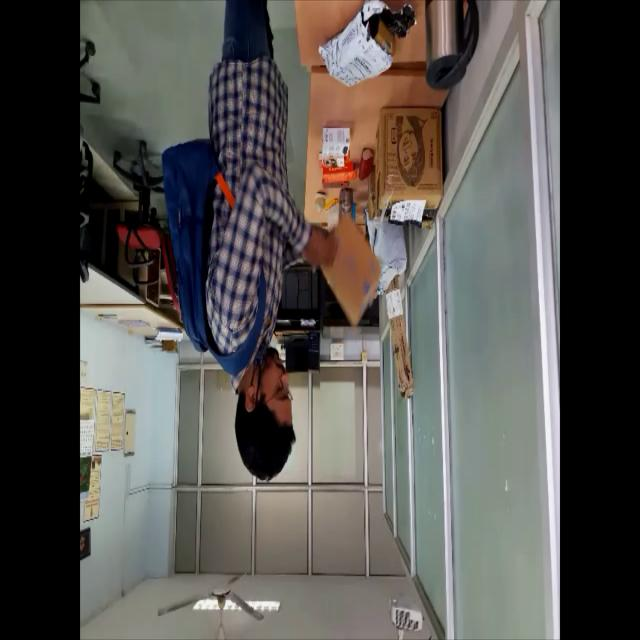normal: (164, 0, 380, 486)
